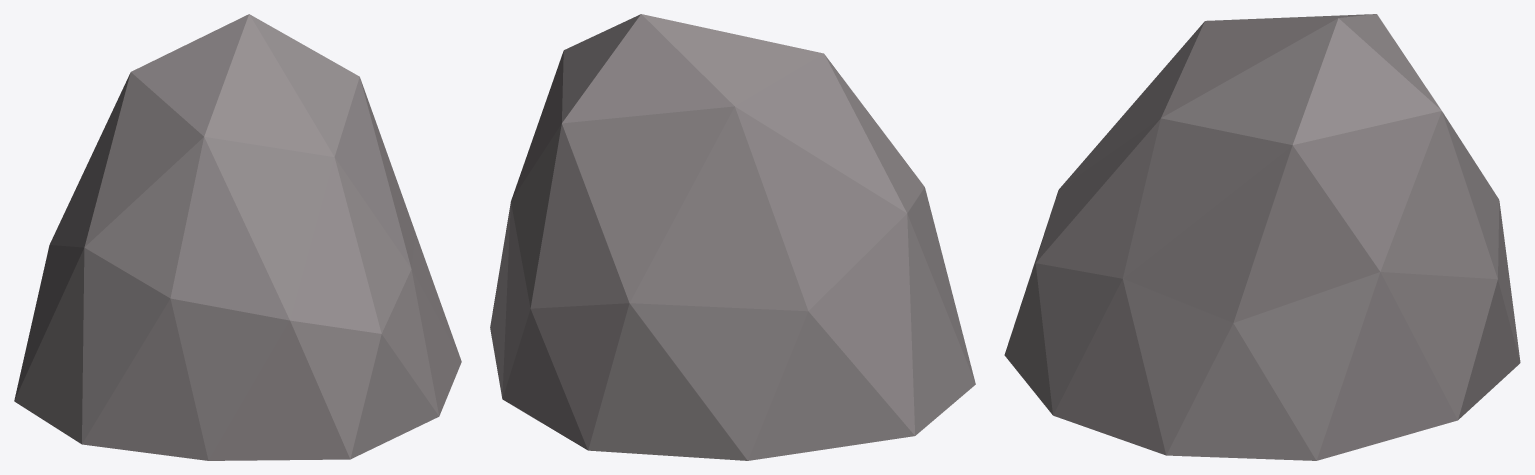
Rendered from PlainsStone(3).fbx.
The picture shows the model from 3 angles, left to right: view 1: azimuth 30°, elevation 25°; view 2: azimuth 150°, elevation 25°; view 3: azimuth 270°, elevation 25°; orthographic projection. The views are drawn at different scales.
Visible parts, largest first — view 1: PlainsStone(3); view 2: PlainsStone(3); view 3: PlainsStone(3).
Boxes of the visible parts, bbox=[...] form: PlainsStone(3): bbox=[14, 14, 461, 460]; PlainsStone(3): bbox=[490, 14, 975, 460]; PlainsStone(3): bbox=[1004, 14, 1520, 460].
Size of the model in its own units: 1.77 by 1.42 by 1.83.
